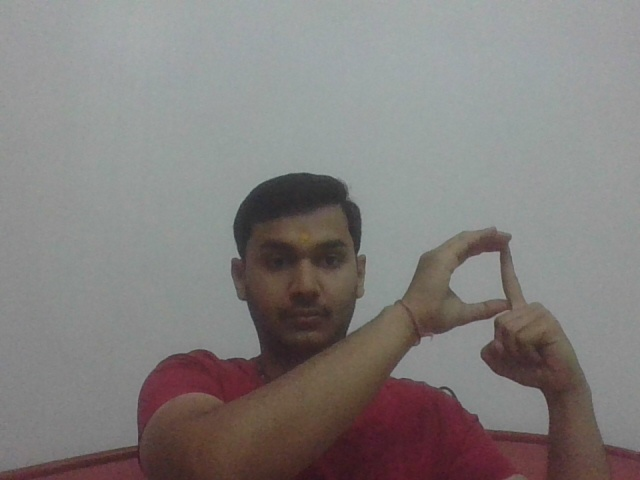D: (406, 225, 593, 383)
